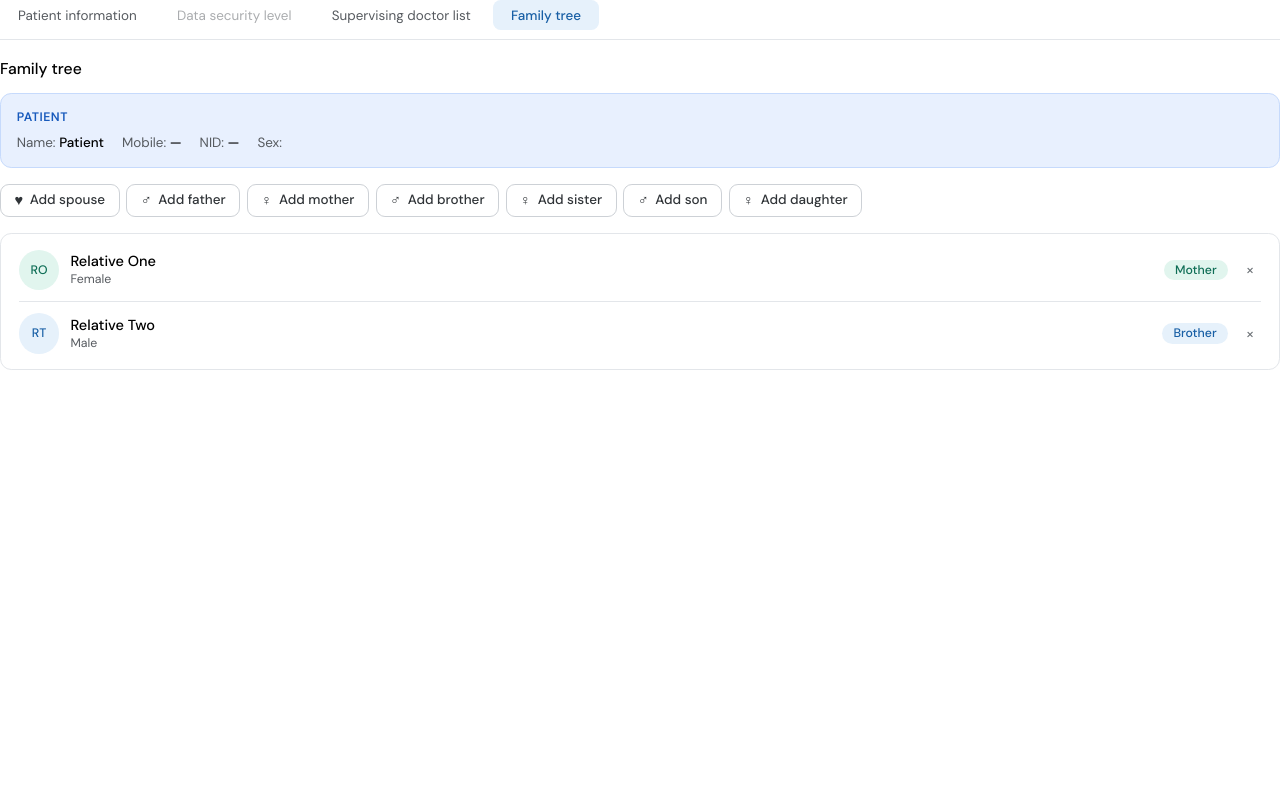
Scenario: 35e7039: removing a relative from the family tree asks first › ⚕️ does nothing when the doctor cancels
Click the button titled "Remove from family tree" in the row of "Relative One" at x=1250, y=270, box x1=1239 y1=257 x2=1261 y2=282
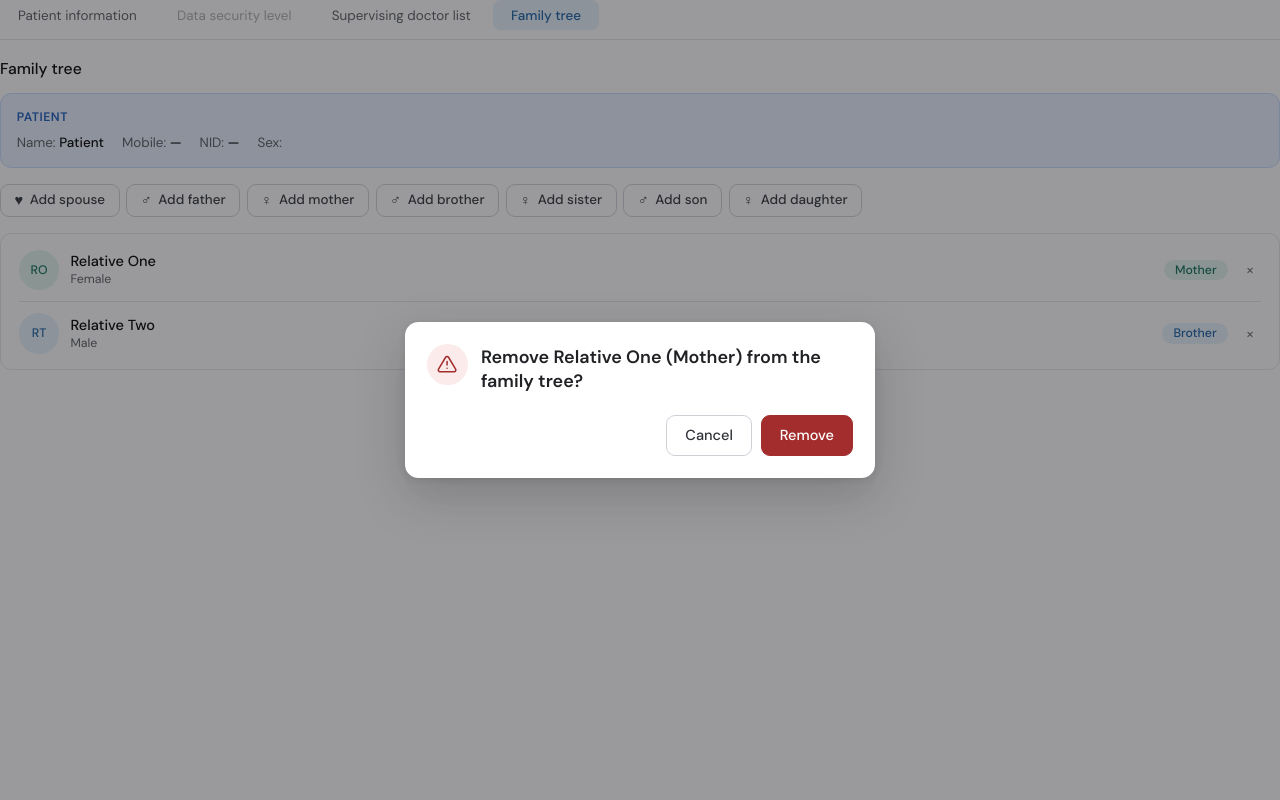
Result: the dialog shows "Relative One" at x1=481 y1=346 x2=821 y2=393
Result: the dialog shows "Mother" at x1=481 y1=346 x2=821 y2=393
Click the button "Cancel" at x=709, y=436, box x1=666 y1=416 x2=752 y2=456
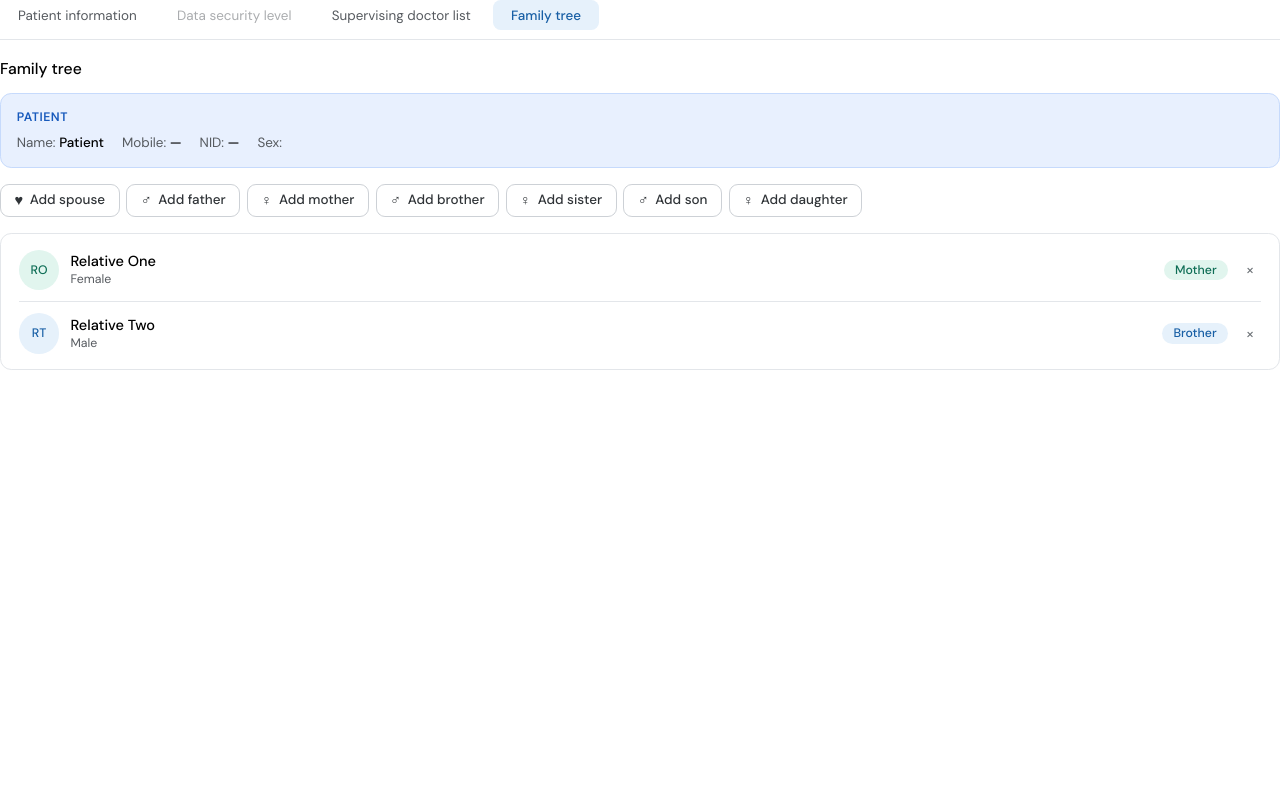
Result: the dialog is gone
